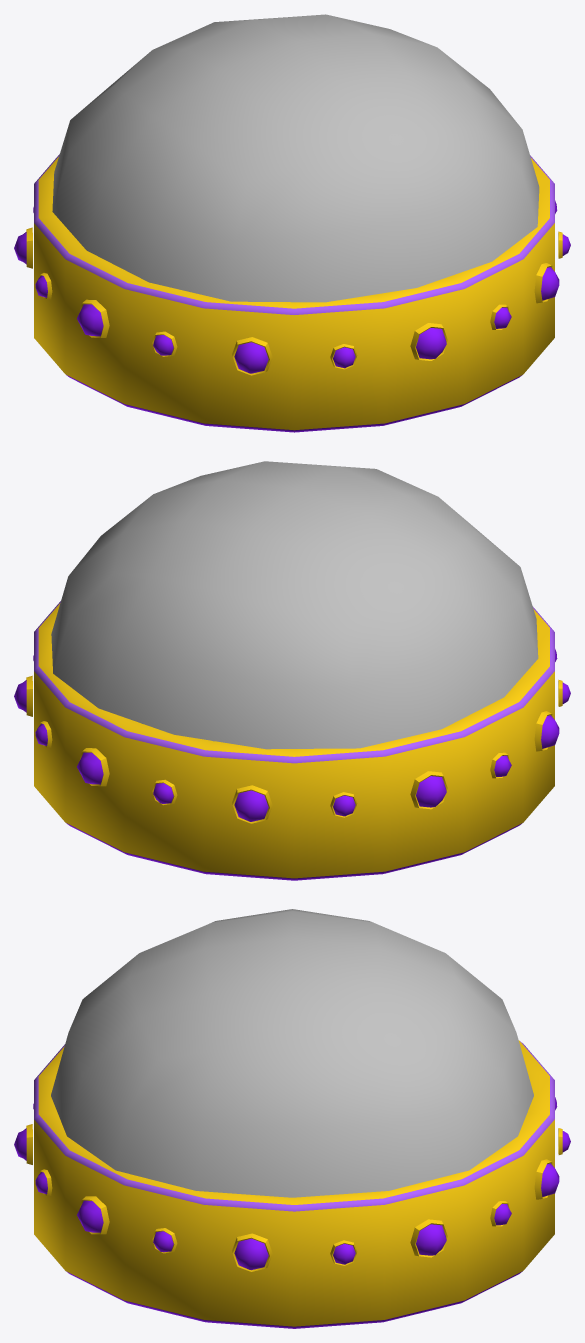
File: Compas.fbx
3 views of the same model, one above another, from view 1: azimuth 30°, elevation 25°; view 2: azimuth 150°, elevation 25°; view 3: azimuth 270°, elevation 25° (orthographic).
Visible parts, largest first — view 1: Glass_LOD0, Compas_LOD0; view 2: Glass_LOD0, Compas_LOD0; view 3: Glass_LOD0, Compas_LOD0.
Part boxes in pixels (x1,y1,x2,y2): Glass_LOD0: [52, 14, 539, 302]; Compas_LOD0: [14, 154, 570, 432]; Glass_LOD0: [51, 461, 538, 749]; Compas_LOD0: [14, 601, 570, 880]; Glass_LOD0: [51, 909, 533, 1197]; Compas_LOD0: [14, 1040, 570, 1328].
Size of what is drawn, in the model's own units: 0.7769 by 0.4367 by 0.7834.
